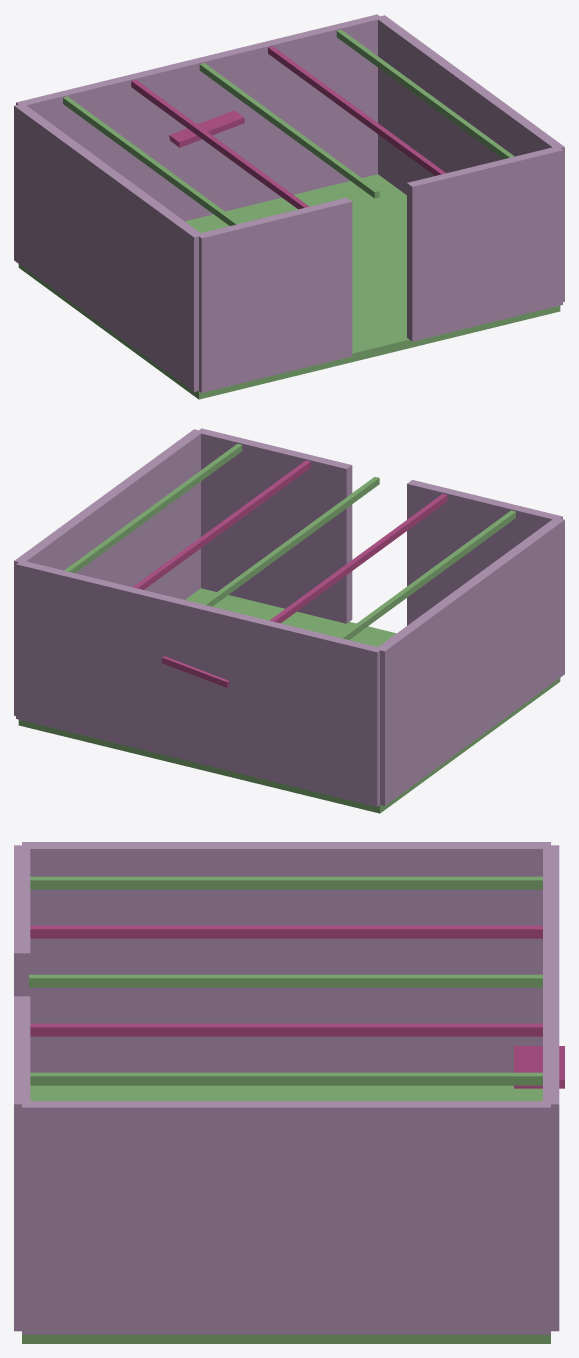
The model's file is glow_pond_pavilion.glb.
3 views of the same model, one above another, from view 1: azimuth 30°, elevation 25°; view 2: azimuth 150°, elevation 25°; view 3: azimuth 270°, elevation 25° (orthographic). The views are drawn at different scales.
Visible parts, largest first — view 1: wall_north, wall_west, wall_south_right, wall_south_left, wall_east, floor, ceiling_beam_0, ceiling_beam_2, ceiling_beam_-1, ceiling_beam_1, ceiling_beam_-2, purpose_glow_pavilion; view 2: wall_north, wall_west, wall_south_right, wall_east, wall_south_left, floor, ceiling_beam_0, ceiling_beam_2, ceiling_beam_-1, ceiling_beam_1, ceiling_beam_-2, purpose_glow_pavilion; view 3: wall_east, wall_west, floor, ceiling_beam_0, ceiling_beam_-2, ceiling_beam_-1, ceiling_beam_1, ceiling_beam_2, wall_north, wall_south_right, wall_south_left, purpose_glow_pavilion.
Boxes of the visible parts, left/top/right/bottom form: wall_north: left=16, top=14, right=382, bottom=221; wall_west: left=14, top=104, right=203, bottom=391; wall_south_right: left=407, top=146, right=562, bottom=341; wall_south_left: left=199, top=197, right=352, bottom=392; wall_east: left=377, top=15, right=564, bottom=301; floor: left=18, top=174, right=560, bottom=399; ceiling_beam_0: left=199, top=63, right=379, bottom=198; ceiling_beam_2: left=336, top=29, right=514, bottom=159; ceiling_beam_-1: left=131, top=80, right=308, bottom=209; ceiling_beam_1: left=268, top=46, right=445, bottom=175; ceiling_beam_-2: left=63, top=96, right=240, bottom=225; purpose_glow_pavilion: left=169, top=110, right=244, bottom=147; wall_north: left=16, top=561, right=382, bottom=806; wall_west: left=376, top=517, right=564, bottom=805; wall_south_right: left=197, top=428, right=352, bottom=623; wall_east: left=14, top=429, right=203, bottom=715; wall_south_left: left=407, top=480, right=562, bottom=625; floor: left=18, top=588, right=560, bottom=813; ceiling_beam_0: left=201, top=477, right=379, bottom=606; ceiling_beam_2: left=64, top=443, right=242, bottom=573; ceiling_beam_-1: left=270, top=494, right=447, bottom=623; ceiling_beam_1: left=133, top=460, right=310, bottom=589; ceiling_beam_-2: left=338, top=510, right=515, bottom=639; purpose_glow_pavilion: left=162, top=656, right=229, bottom=687; wall_east: left=22, top=1101, right=550, bottom=1334; wall_west: left=22, top=842, right=550, bottom=1072; floor: left=22, top=1085, right=550, bottom=1343; ceiling_beam_0: left=29, top=974, right=542, bottom=987; ceiling_beam_-2: left=30, top=876, right=542, bottom=889; ceiling_beam_-1: left=30, top=925, right=542, bottom=938; ceiling_beam_1: left=30, top=1023, right=542, bottom=1036; ceiling_beam_2: left=30, top=1072, right=542, bottom=1085; wall_north: left=543, top=845, right=559, bottom=1331; wall_south_right: left=14, top=996, right=30, bottom=1331; wall_south_left: left=14, top=845, right=30, bottom=996; purpose_glow_pavilion: left=514, top=1046, right=564, bottom=1088.
Size of what is drawn, in the model's own units: 13.55 by 5.7 by 11.88.
